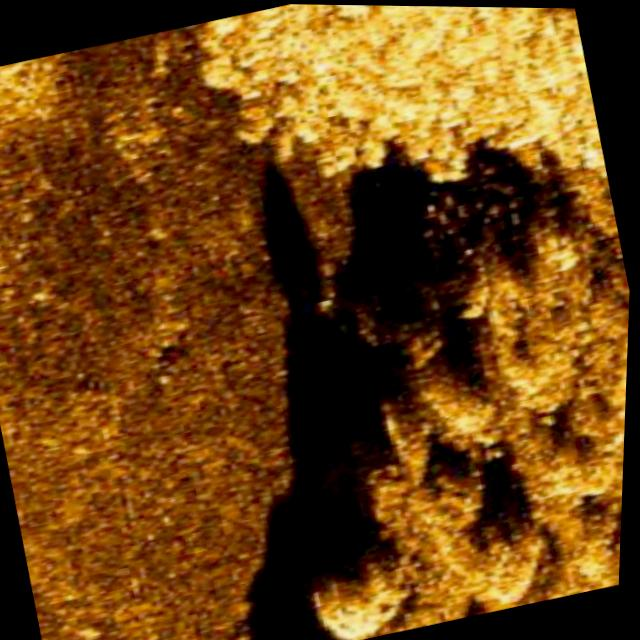bedrock group: (173, 2, 640, 640)
